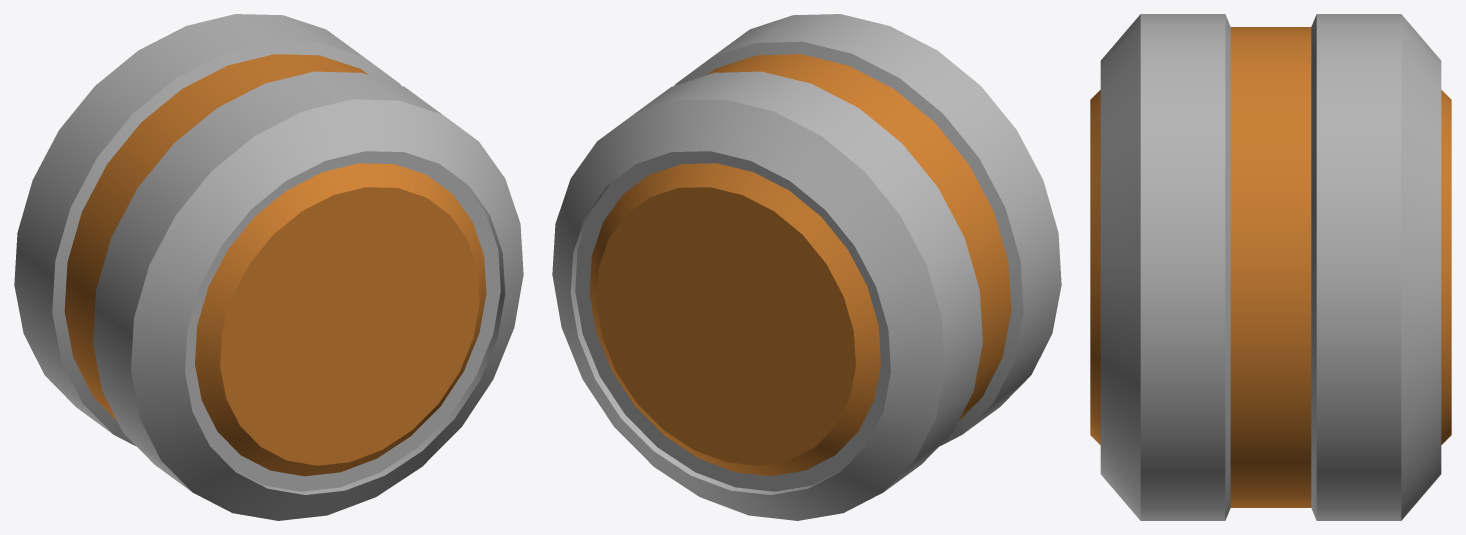
The model's file is quaternius-modular-sci-fi-guns-accessory-pistol-1.glb.
3 renders of one model, left to right at view 1: azimuth 30°, elevation 25°; view 2: azimuth 150°, elevation 25°; view 3: azimuth 270°, elevation 25°, orthographic. The views are drawn at different scales.
Visible parts, largest first — view 1: Accessory_Pistol_1; view 2: Accessory_Pistol_1; view 3: Accessory_Pistol_1.
Boxes of the visible parts, x1,y1,x2,y2 form: Accessory_Pistol_1: (14,14,523,520); Accessory_Pistol_1: (552,14,1061,520); Accessory_Pistol_1: (1090,14,1451,520).
Bounding box in the file's own units: 0.25 × 0.2495 × 0.1782.
